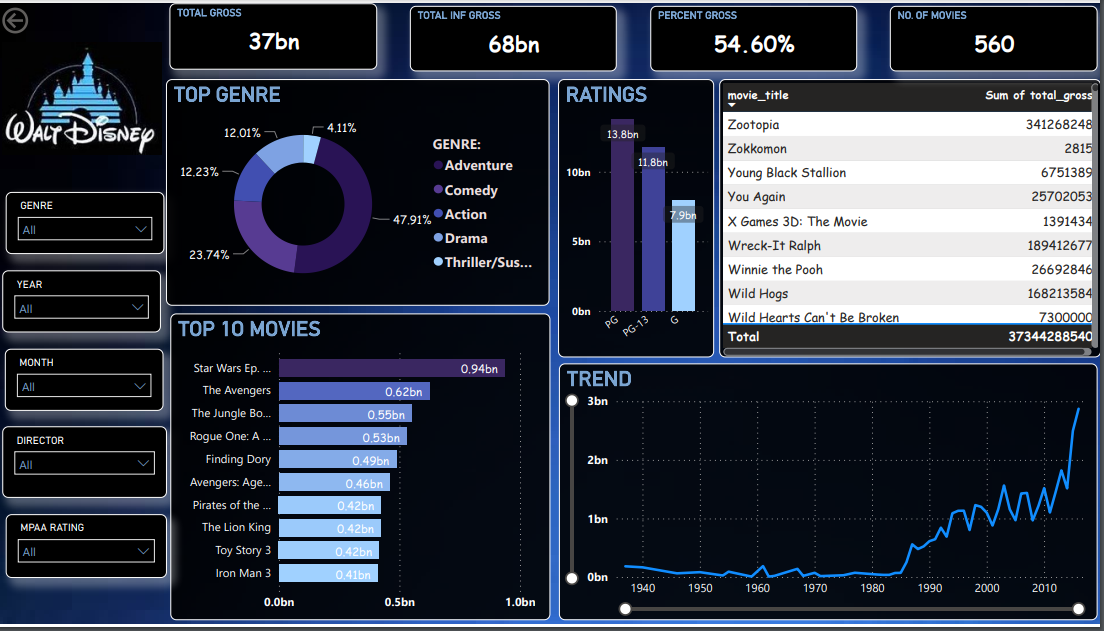

What the dashboard file says about the page in this screenshot:
{"tool":"powerbi","page":{"name":"Page 1","canvas":[1280,720],"ordinal":0},"visuals":[{"type":"image","box":[0,0,195.8,148.5],"z":0},{"type":"card","title":"TOTAL GROSS","fields":{"Values":["Sum(disney_movies_total_gross.total_gross)"]},"box":[199.4,0,240.6,77],"z":1000},{"type":"card","title":"TOTAL INF GROSS","fields":{"Values":["Sum(disney_movies_total_gross.inflation_adjusted_gross)"]},"box":[478.4,2.7,240,75.6],"z":2000},{"type":"card","title":"PERCENT GROSS","fields":{"Values":["disney_movies_total_gross.percent gross"]},"box":[756.8,2.7,240,75.6],"z":3000},{"type":"slicer","fields":{"Values":["disney_movies_total_gross.genre"]},"box":[9.2,219.4,183.9,72.3],"z":4000},{"type":"slicer","title":"YEAR","fields":{"Values":["disney_movies_total_gross.release_date.Variation.Date Hierarchy.Year"]},"box":[5.3,310.1,183.9,72.3],"z":5000},{"type":"slicer","fields":{"Values":["disney_movies_total_gross.release_date.Variation.Date Hierarchy.Month"]},"box":[7.9,400.7,183.9,72.3],"z":6000},{"type":"slicer","fields":{"Values":["disney-director.director"]},"box":[5.3,491.4,190.5,82.8],"z":7000},{"type":"lineChart","title":"TREND","fields":{"Category":["disney_movies_total_gross.release_date.Variation.Date Hierarchy.Year","disney_movies_total_gross.release_date.Variation.Date Hierarchy.Month","disney_movies_total_gross.release_date.Variation.Date Hierarchy.Day"],"Y":["Sum(disney_movies_total_gross.total_gross)"]},"box":[650.4,417.8,625.4,302.2],"z":8000},{"type":"clusteredBarChart","title":"TOP 1O MOVIES","fields":{"Category":["disney_movies_total_gross.movie_title"],"Y":["Sum(disney_movies_total_gross.total_gross)"]},"box":[199.4,360.2,441.3,360.2],"z":9000},{"type":"donutChart","title":"TOP GENRE","fields":{"Category":["disney_movies_total_gross.genre"],"Y":["Sum(disney_movies_total_gross.total_gross)"]},"box":[195.2,88,445.5,262.6],"z":10000},{"type":"tableEx","fields":{"Values":["disney_movies_total_gross.movie_title","Sum(disney_movies_total_gross.total_gross)"]},"box":[836.9,88,442.8,323.2],"z":11000},{"type":"actionButton","box":[0,0,100,40],"z":11001},{"type":"columnChart","title":"RATINGS ","fields":{"Y":["Sum(disney_movies_total_gross.total_gross)"],"Category":["disney_movies_total_gross.MPAA_rating"]},"box":[650.4,88,181.3,323.2],"z":11002},{"type":"slicer","fields":{"Values":["disney_movies_total_gross.MPAA_rating"]},"box":[9.2,592.6,186.6,73.6],"z":11003},{"type":"card","title":"NO. OF MOVIES","fields":{"Values":["disney_movies_total_gross.No.of movies"]},"box":[1035.3,2.7,240.6,75.6],"z":11004}]}

Visuals, with their boxes in screenshot pixels (x1, y1, x2, y2):
image: l=0, t=0, r=167, b=126
"TOTAL GROSS" card: l=170, t=0, r=374, b=65
"TOTAL INF GROSS" card: l=407, t=2, r=611, b=67
"PERCENT GROSS" card: l=644, t=2, r=848, b=67
slicer - disney_movies_total_gross.genre: l=8, t=187, r=164, b=248
"YEAR" slicer: l=5, t=264, r=161, b=325
slicer - disney_movies_total_gross.release_date.Variation.Date Hierarchy.Month: l=7, t=341, r=163, b=402
slicer - disney-director.director: l=5, t=418, r=167, b=488
"TREND" lineChart: l=553, t=355, r=1085, b=612
"TOP 1O MOVIES" clusteredBarChart: l=170, t=306, r=545, b=613
"TOP GENRE" donutChart: l=166, t=75, r=545, b=298
tableEx - disney_movies_total_gross.movie_title x Sum(disney_movies_total_gross.total_gross): l=712, t=75, r=1088, b=350
actionButton: l=0, t=0, r=85, b=34
"RATINGS " columnChart: l=553, t=75, r=707, b=350
slicer - disney_movies_total_gross.MPAA_rating: l=8, t=504, r=167, b=567
"NO. OF MOVIES" card: l=881, t=2, r=1085, b=67
